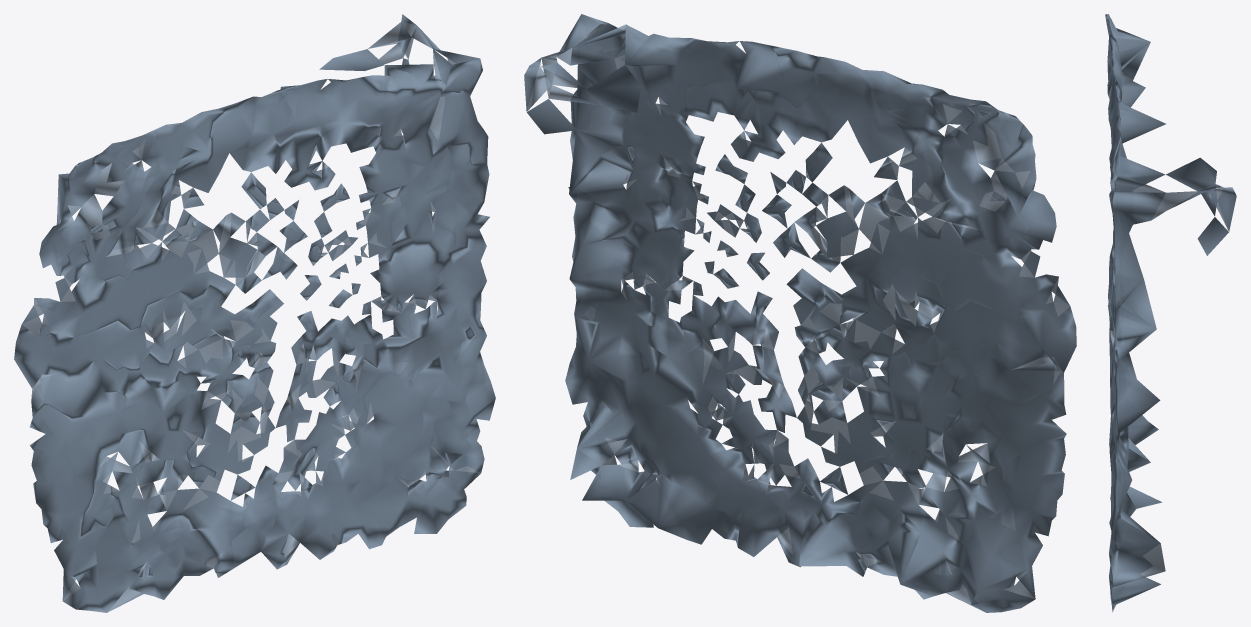
Rendered from table_0376_recon.obj.
3 renders of one model, left to right at view 1: azimuth 30°, elevation 25°; view 2: azimuth 150°, elevation 25°; view 3: azimuth 270°, elevation 25°, orthographic. The views are drawn at different scales.
Bounding box in the file's own units: 1.58 × 1.52 × 0.4016.
